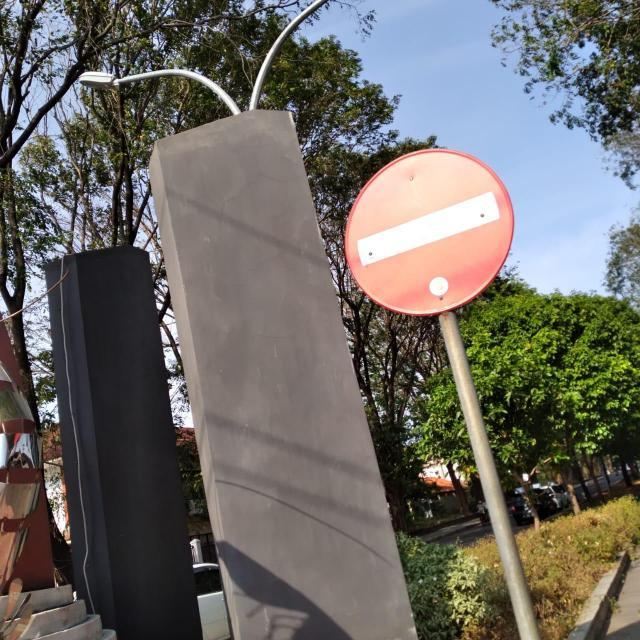traffic sign: (342, 151, 512, 312)
